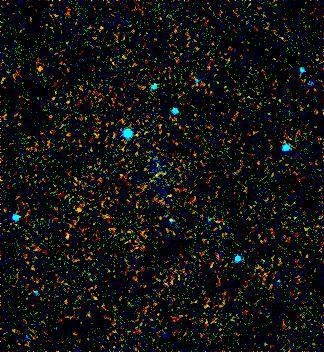star: (31, 52, 61, 82)
